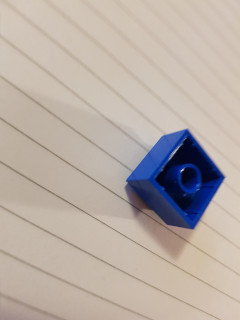2x2 blue: (124, 127, 227, 233)
